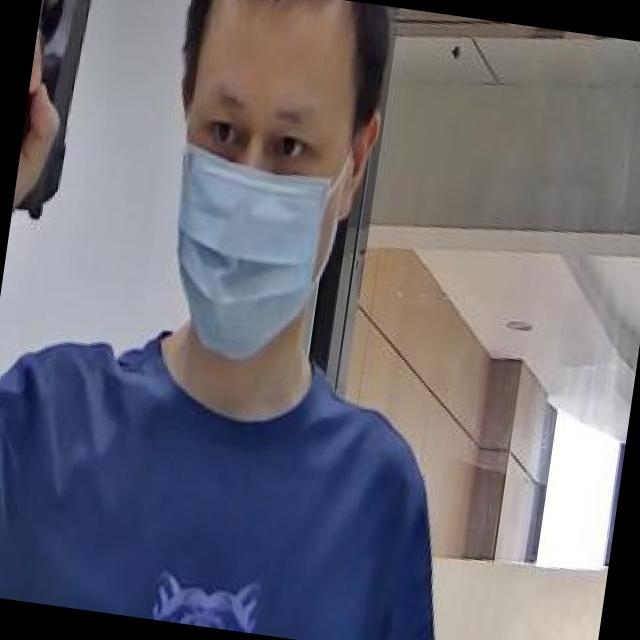Guns: (5, 0, 130, 269)
